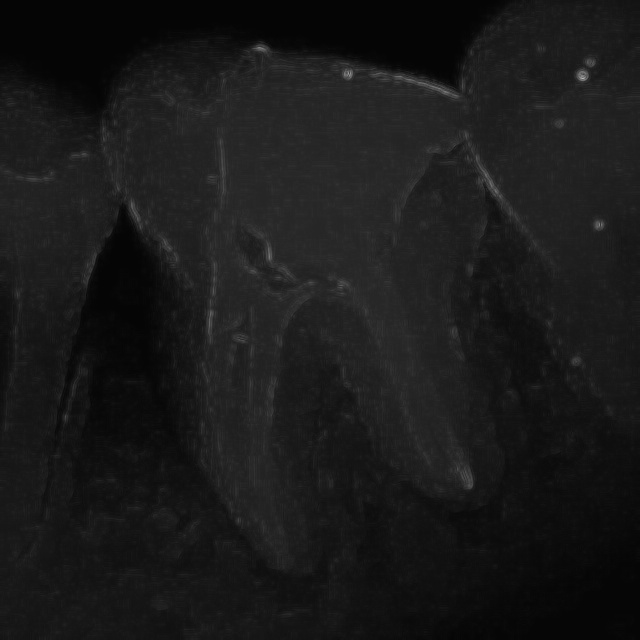Class 0- No endodontic treatment: (86, 44, 547, 588)
